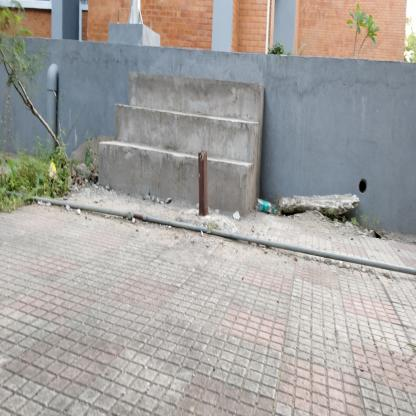stairs: (138, 44, 244, 222)
